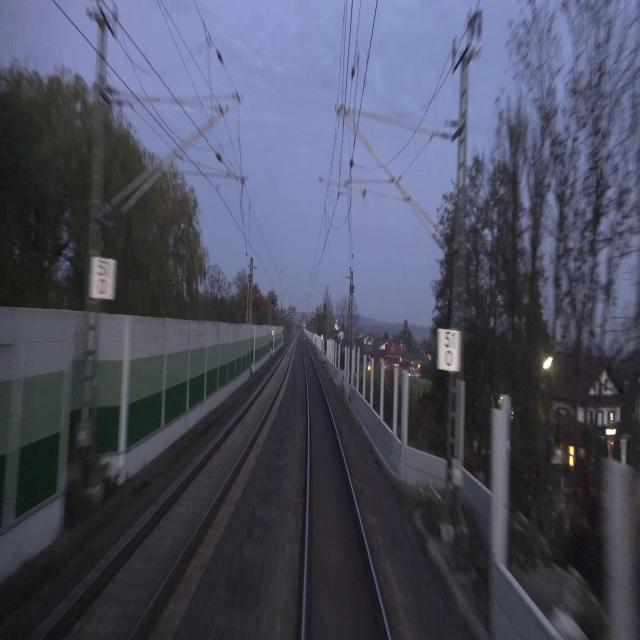rail-track: (46, 343, 293, 639), (304, 341, 387, 639)
